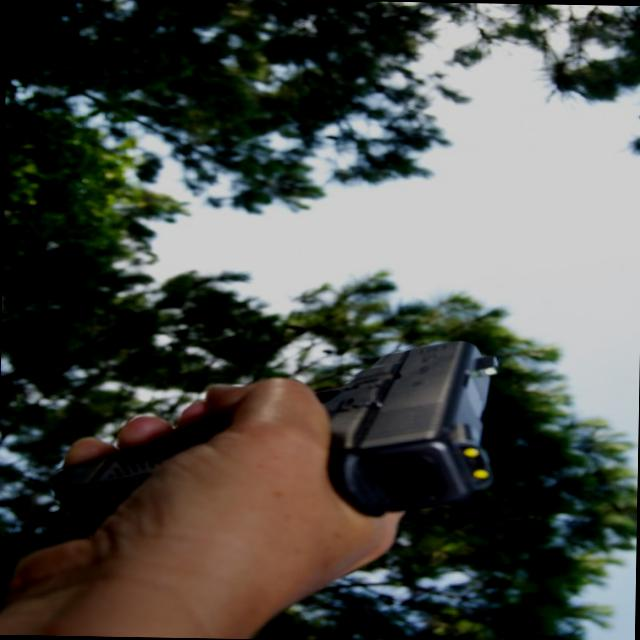handgun: (49, 328, 522, 542)
